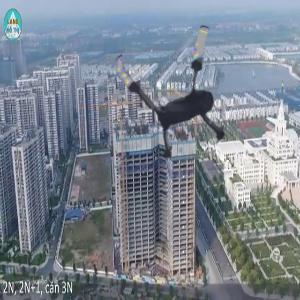drone: (107, 18, 262, 173)
